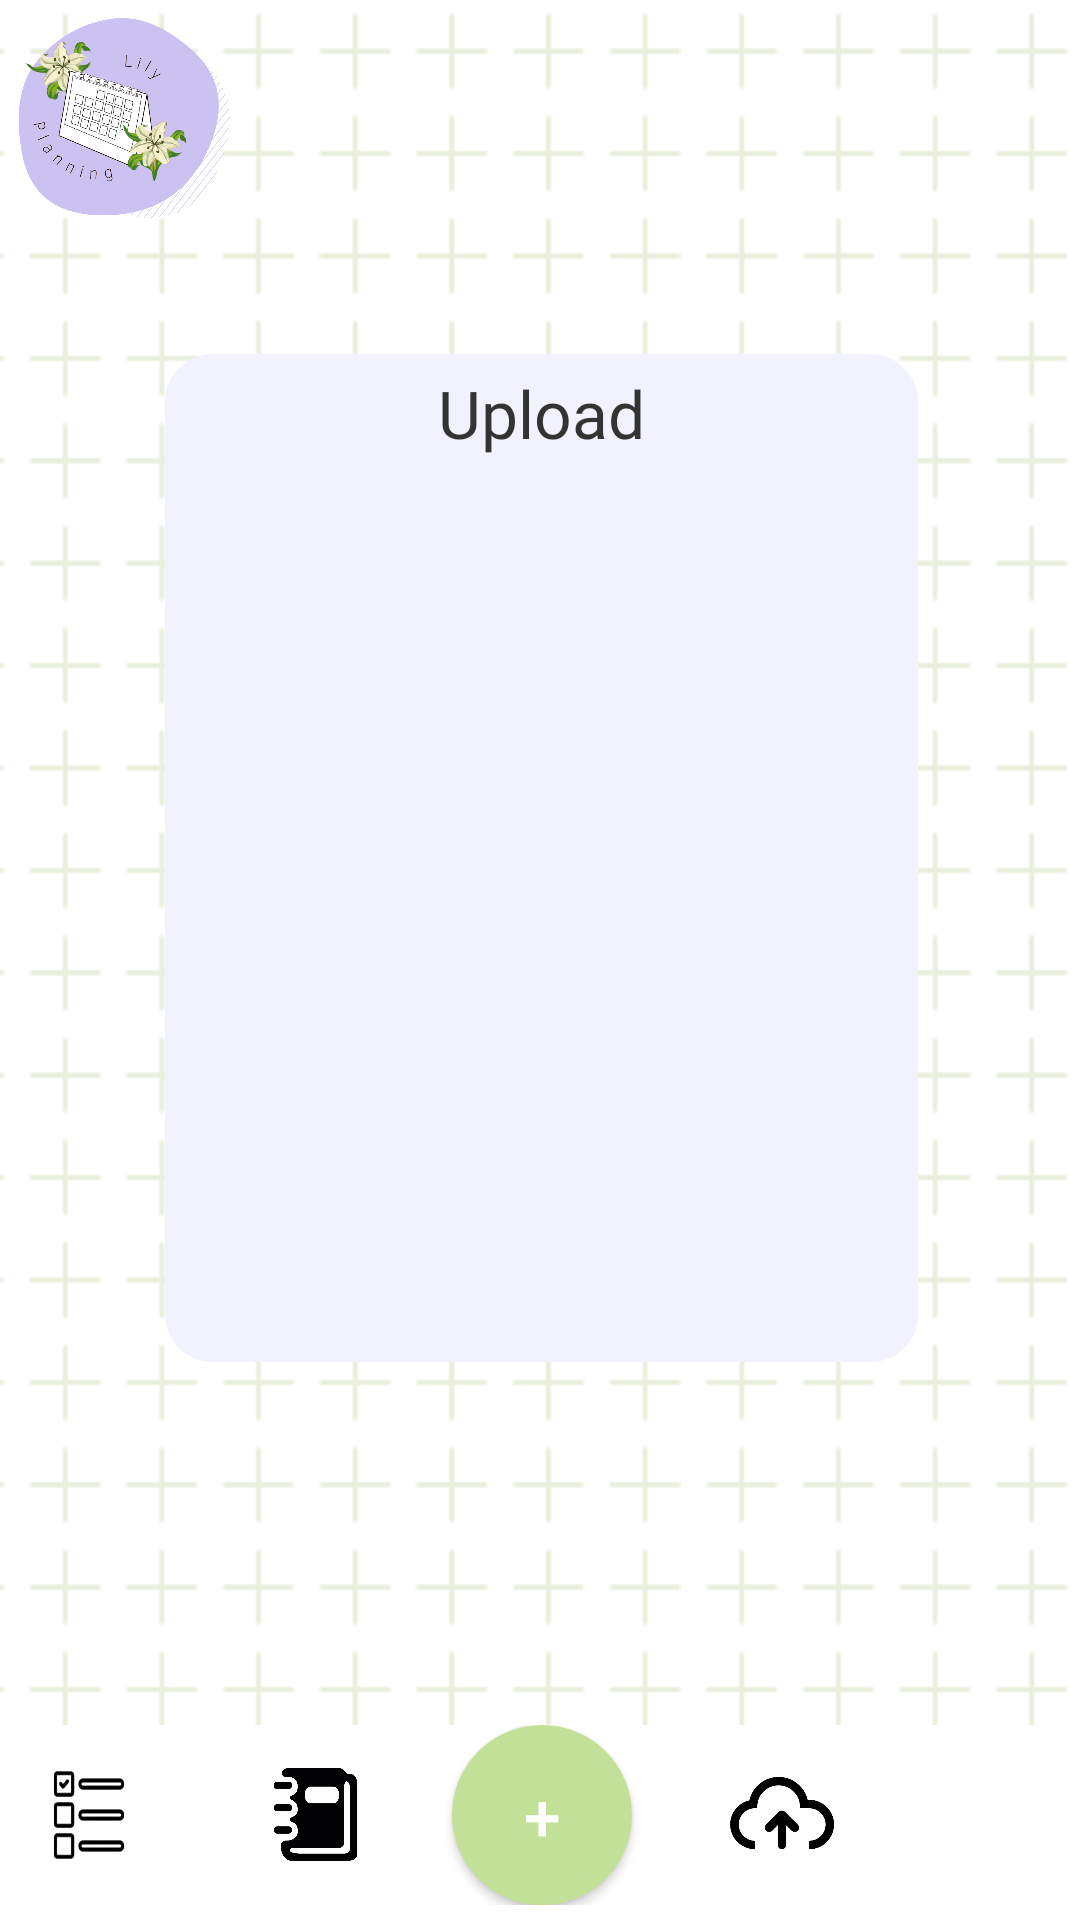

Icons on this 1080w x 1920h Android screen, each with the point to tap as [x,y]:
notebook: [315,1814]
todolist: [89,1815]
uploads: [782,1813]
